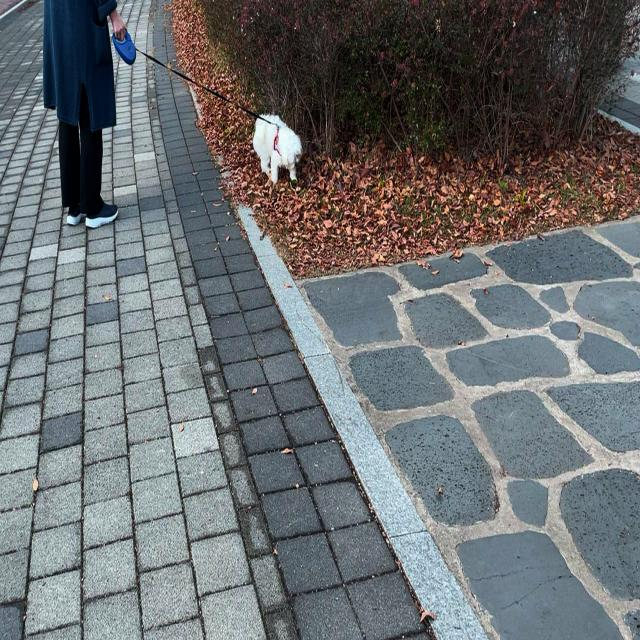Leashed_Dog: (80, 5, 302, 185)
